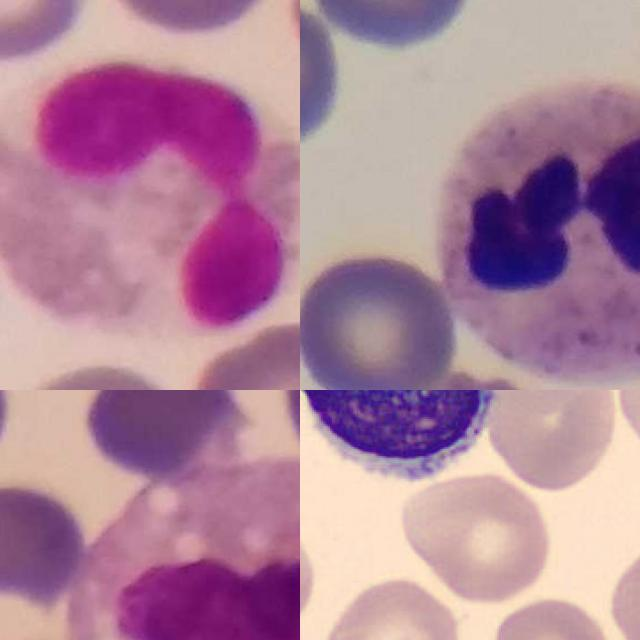Eosinophil: (0, 53, 300, 337)
Lymphocyte: (300, 390, 506, 491)
Monocyte: (78, 454, 300, 640)
Neutrophil: (431, 78, 640, 385)
RBC: (398, 470, 558, 604), (319, 574, 465, 640), (479, 591, 616, 640), (600, 531, 640, 640)
